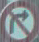Don't turn right: (3, 2, 37, 41)
